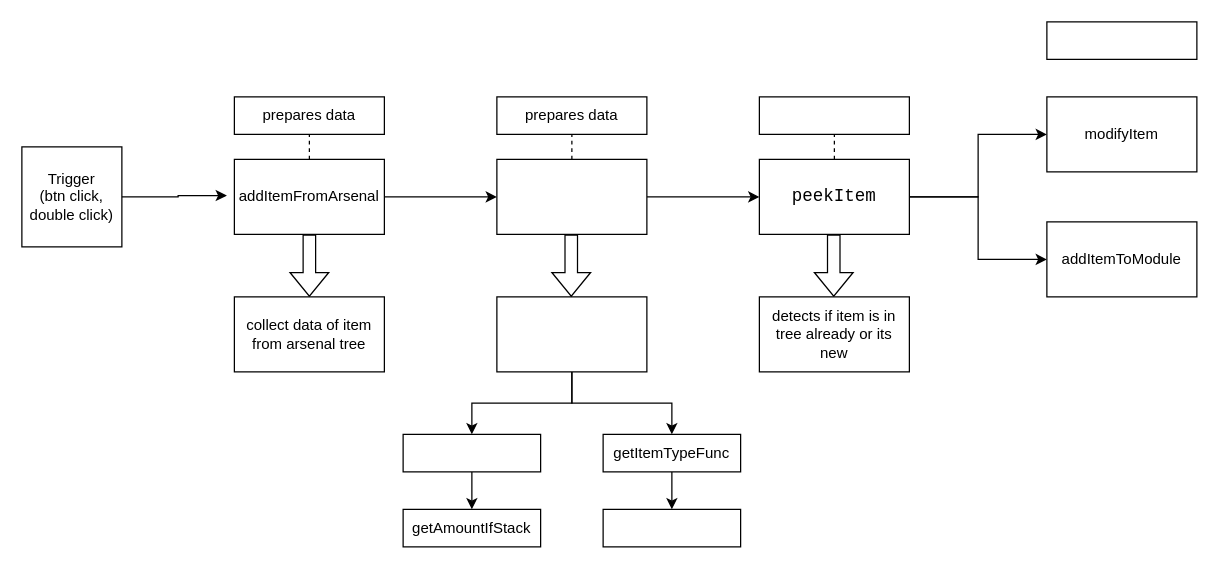
Some shapes in this 1219 by 569 pixel diagram are drawn without their labels. Here are the shapes that lost their labels. From the top down, the centre of each, then its label:
At point (1121, 40): "works with data".
At point (833, 115): "transfers data".
At point (571, 196): "addItemMiddleware".
At point (571, 334): "get categories, get amount, form tree path".
At point (471, 452): "checkCategories".
At point (671, 527): "itemDestination".
